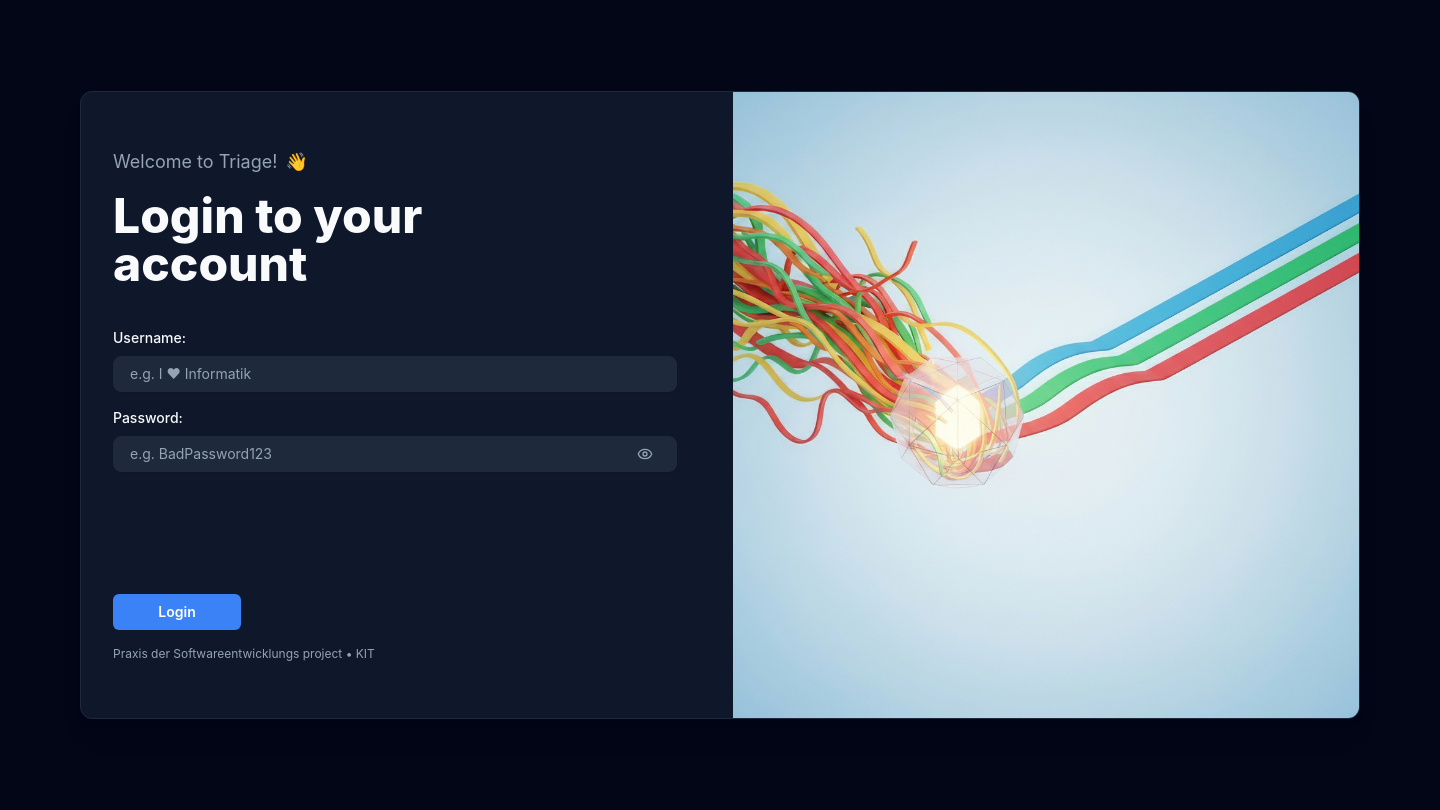
Test: Login › shows required validation errors when submitting empty credentials
Click the button "Login" at (177, 612), box [113, 594, 241, 630]
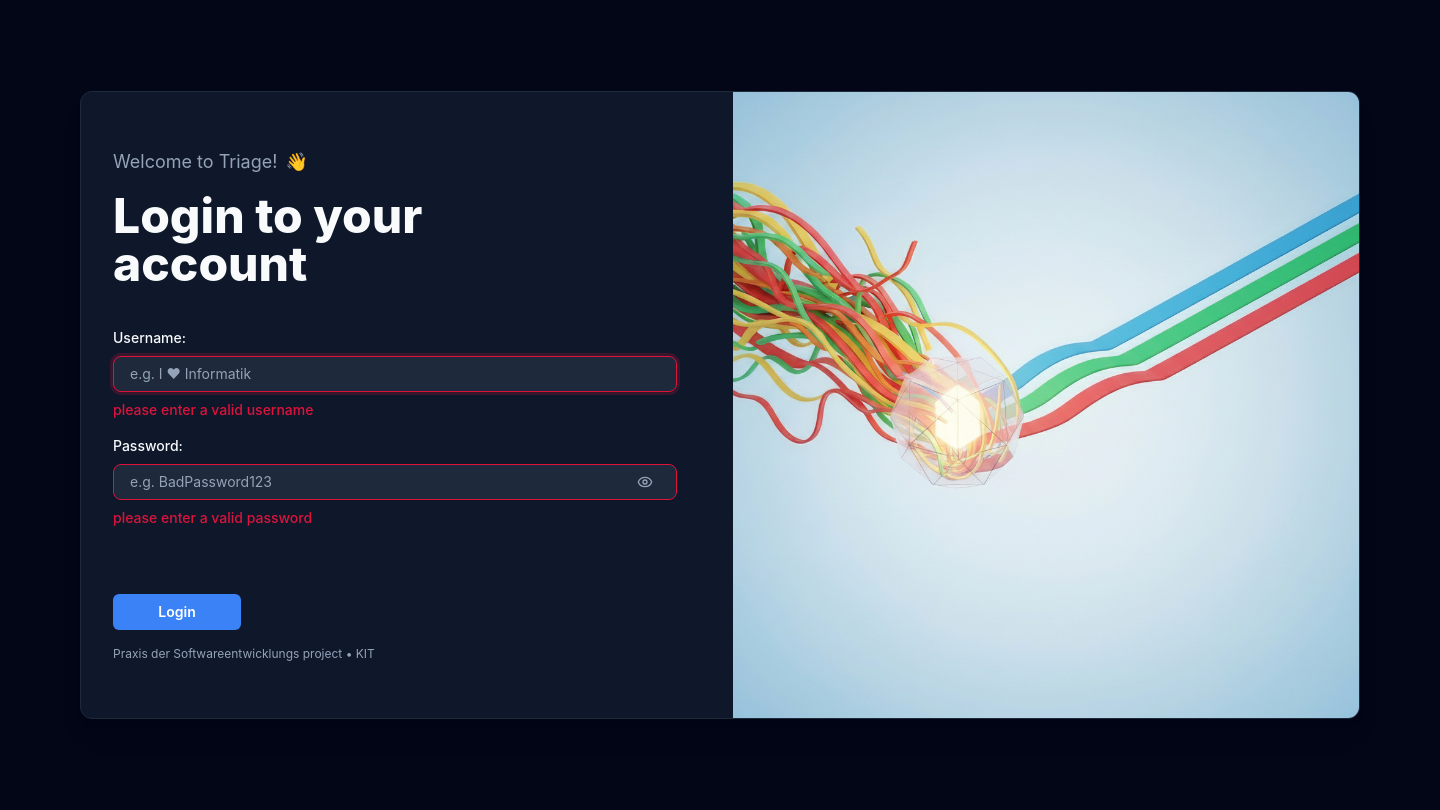
Expected: the text "please enter a valid username" is shown, [113, 401, 314, 418]
Expected: the text "please enter a valid password" is shown, [113, 509, 312, 526]
